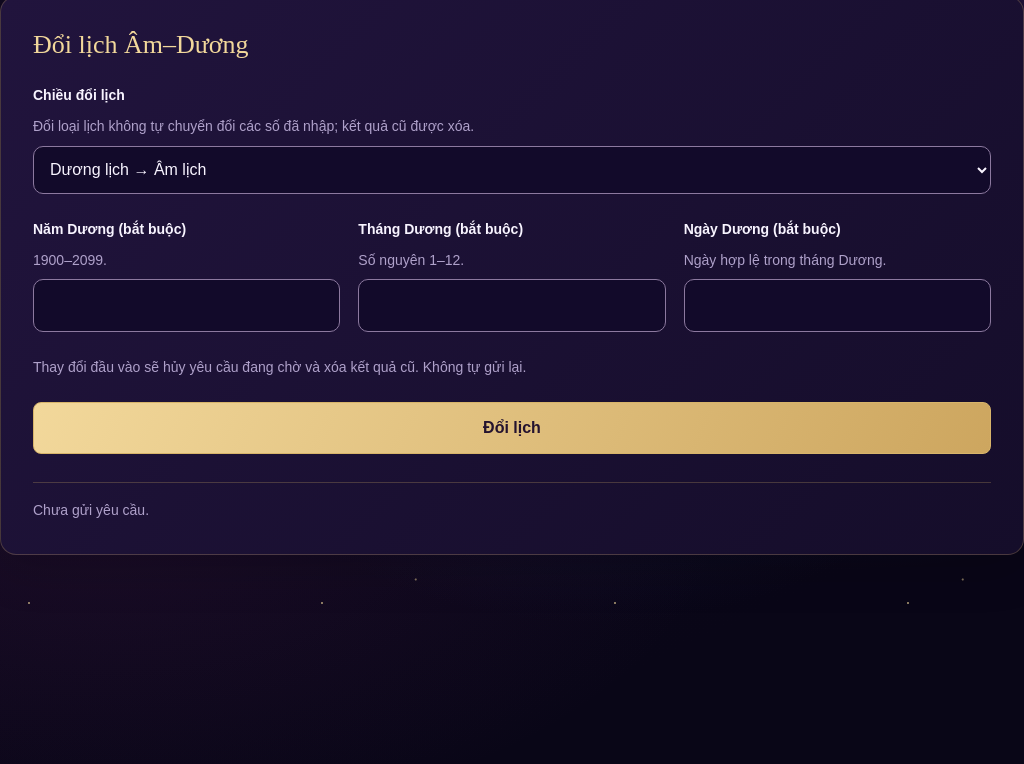
Phase 6 independent calendar forms › reverses the fixture using lunar numbers without browser Date conversion
The image size is (1024, 764).
Select "Âm lịch → Dương lịch" in the dropdown labelled "Chiều đổi lịch" at x=512, y=170, box [33,146,991,194]
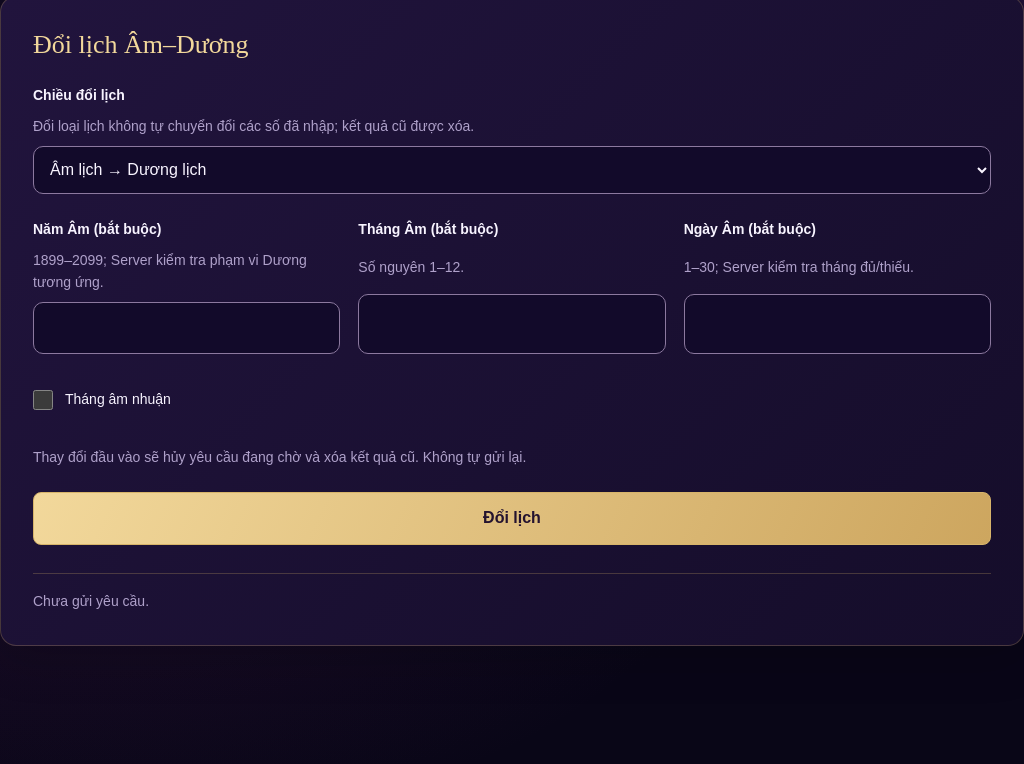
Type "1999" into the field labelled "Năm Âm (bắt buộc)".
click(187, 328); type("1999")  # box [33,302,340,354]
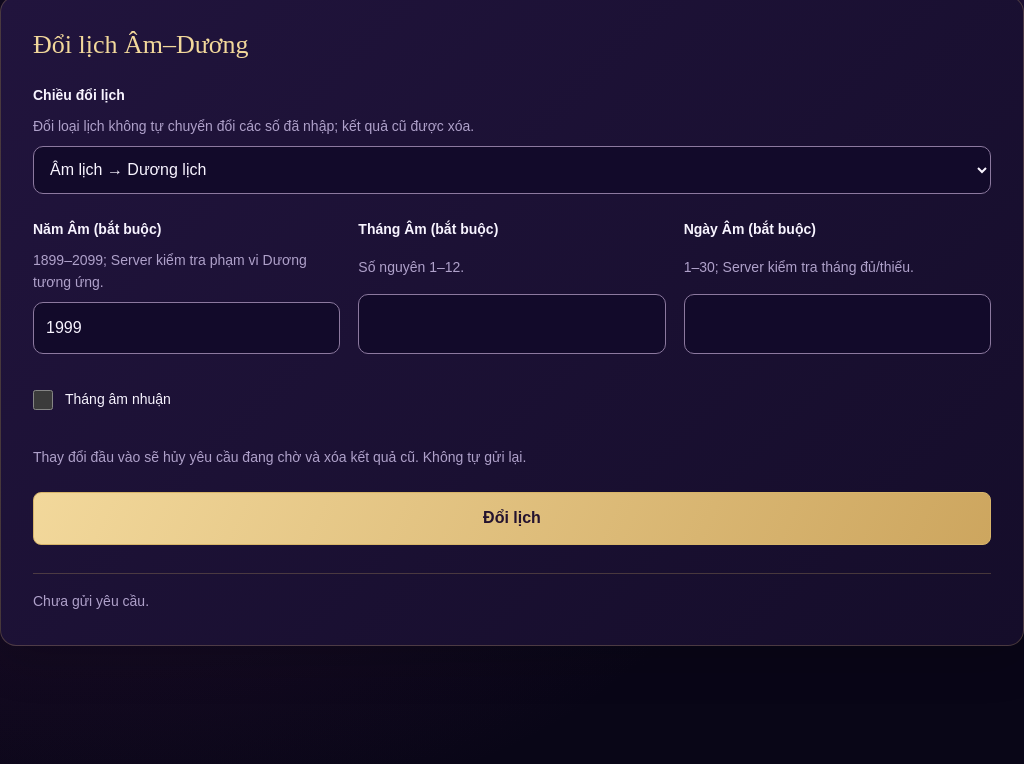
Type "11" into the field labelled "Tháng Âm (bắt buộc)".
click(512, 324); type("11")  # box [358,294,666,354]
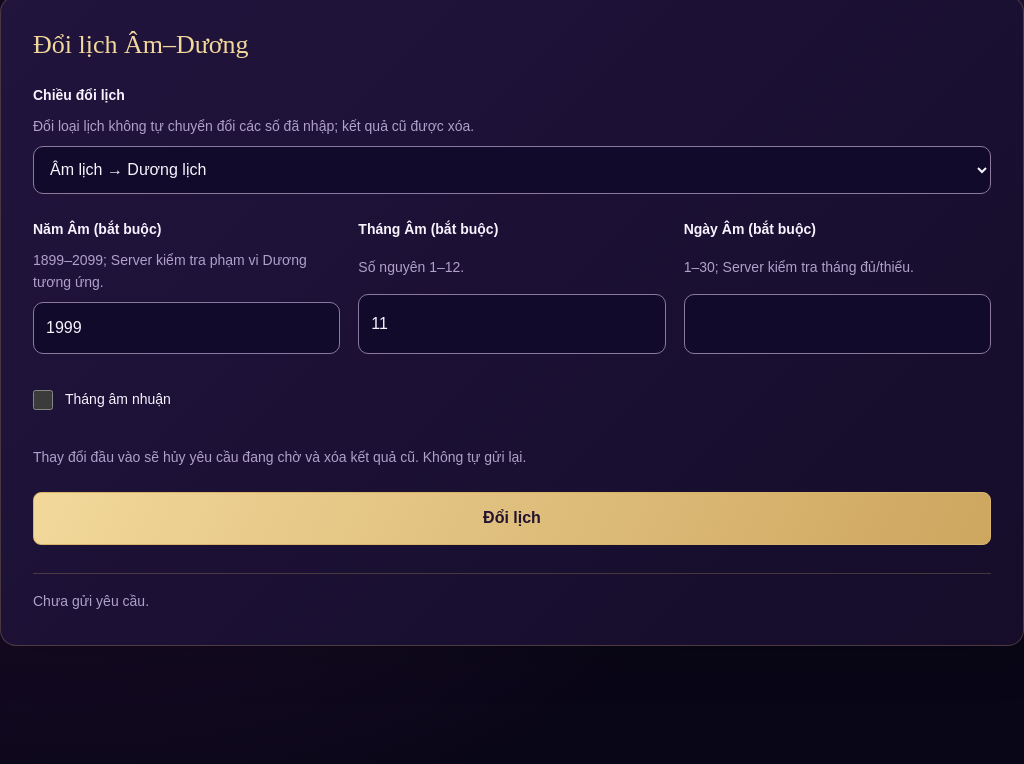
Type "25" into the field labelled "Ngày Âm (bắt buộc)".
click(837, 324); type("25")  # box [684,294,991,354]
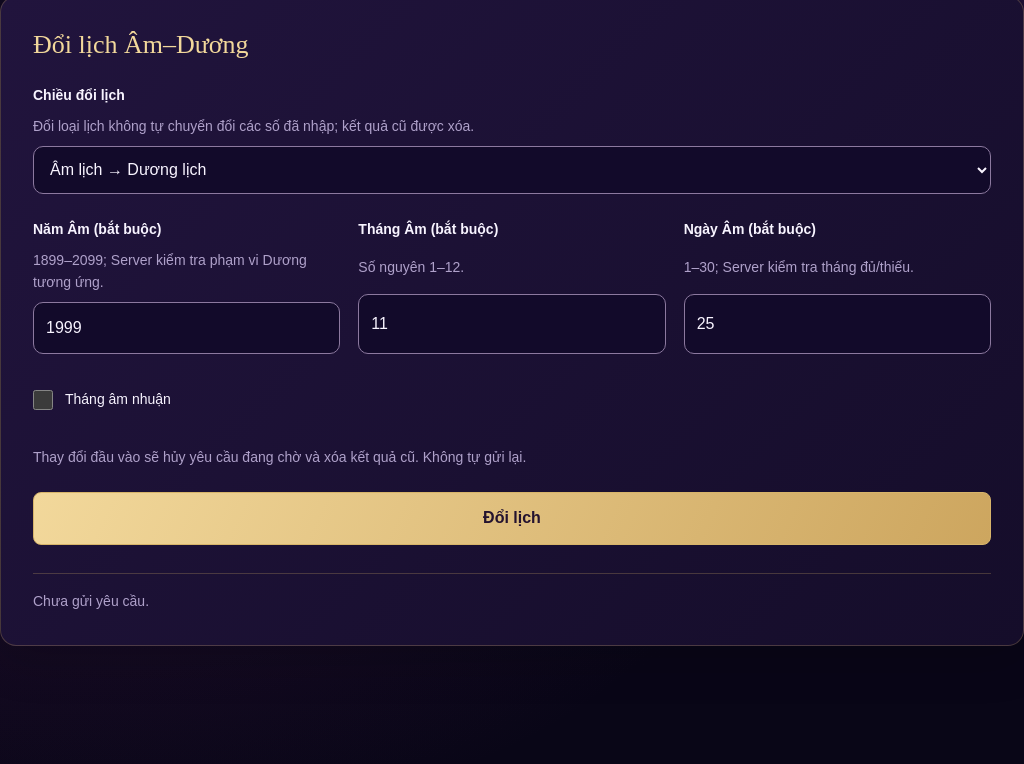
Click the button "Đổi lịch".
click(512, 518)  # box [33,492,991,545]
(page scrolled)
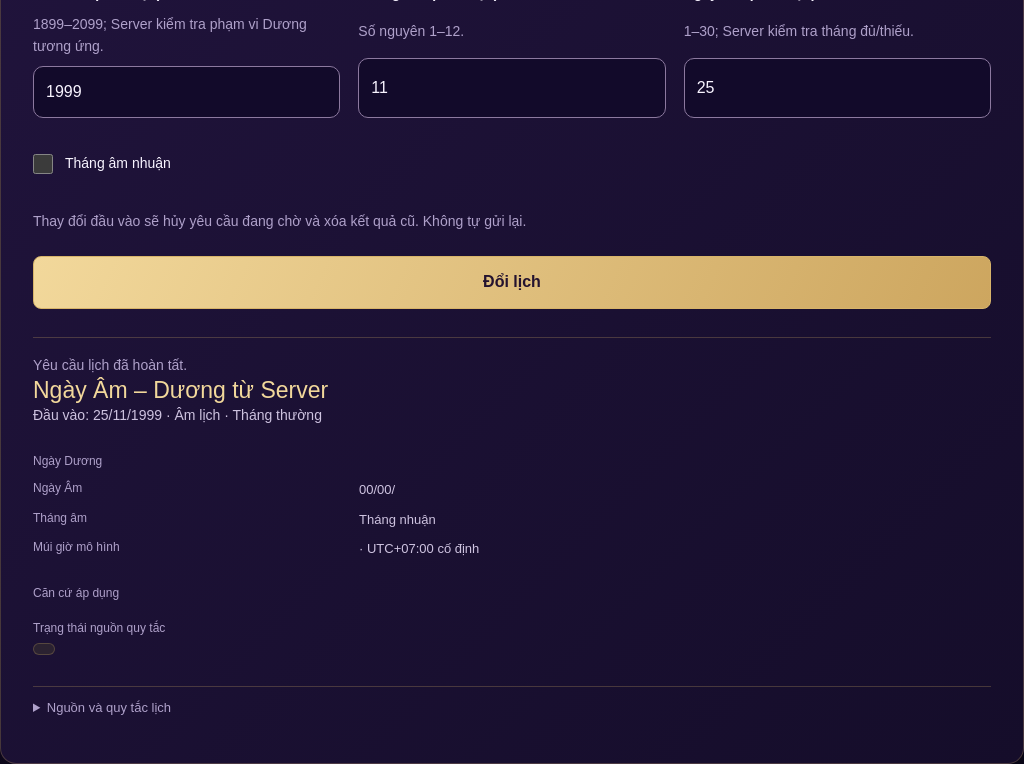
Check: the element named "Kết quả đổi lịch" is shown, box [33,377,991,731]
